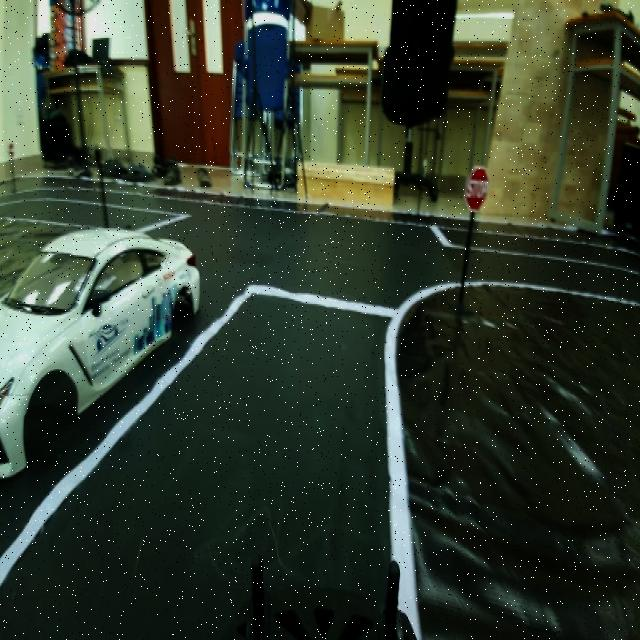car: (5, 236, 210, 490)
stop: (462, 158, 492, 220)
